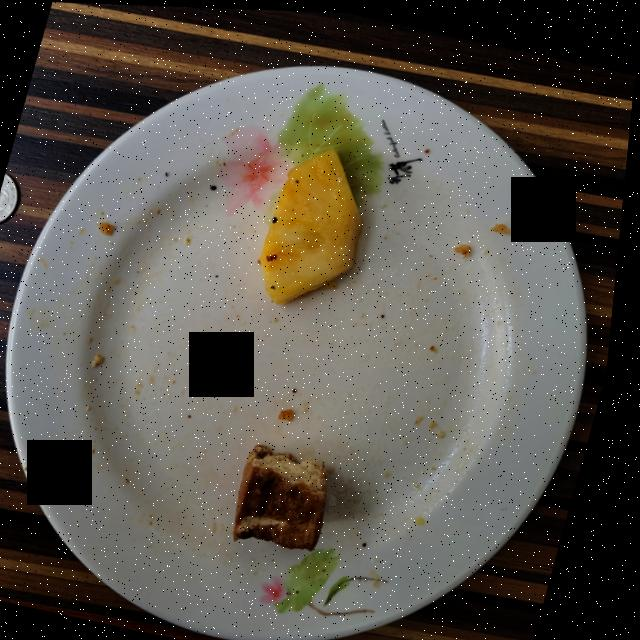coin: (0, 173, 22, 224)
egg tofu: (243, 442, 336, 548)
pineapple: (265, 146, 366, 301)
